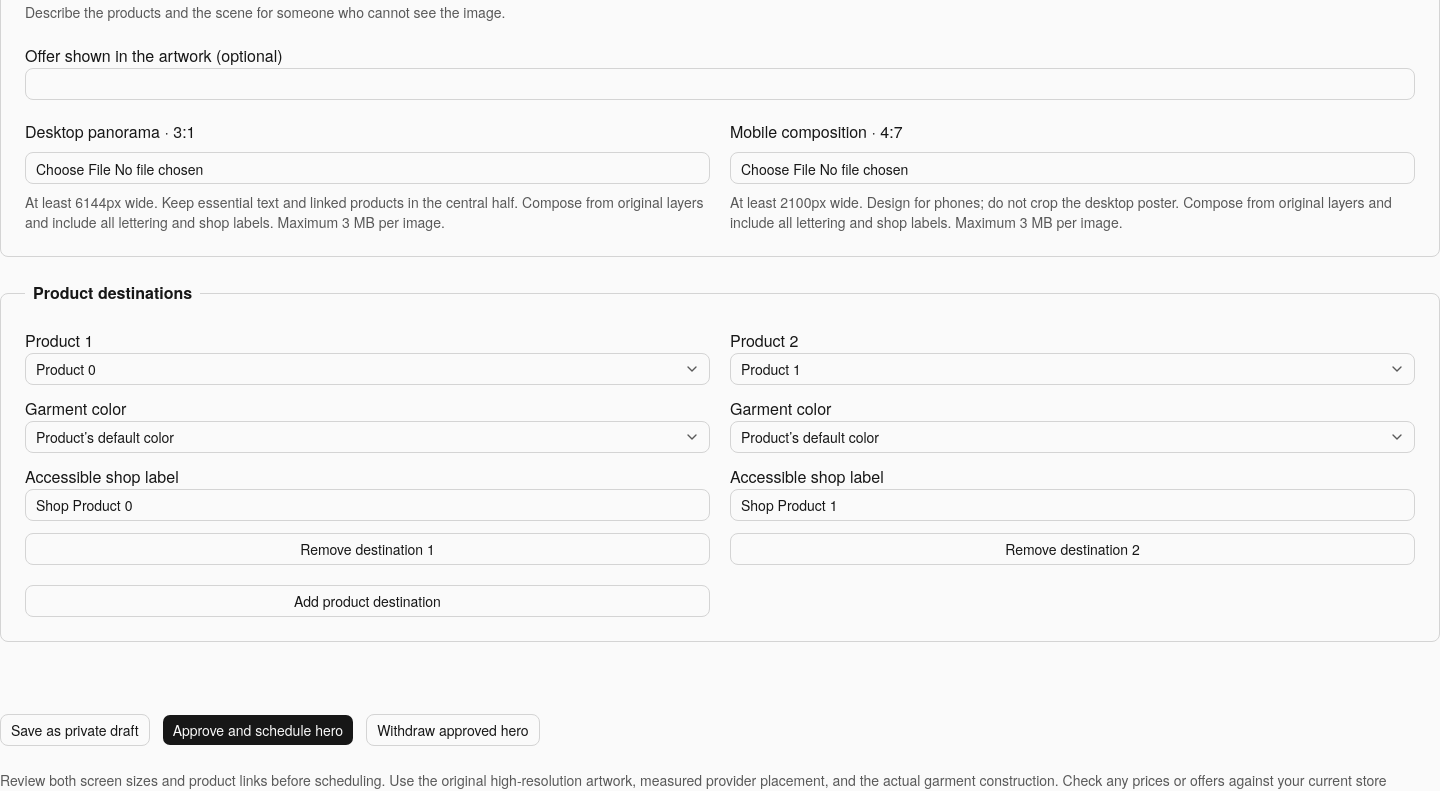
withdraws an unreadable hero using its actual revision without publishing anything
(page scrolled)
Click the button "Withdraw approved hero".
click(453, 730)  # box x1=366 y1=714 x2=540 y2=746
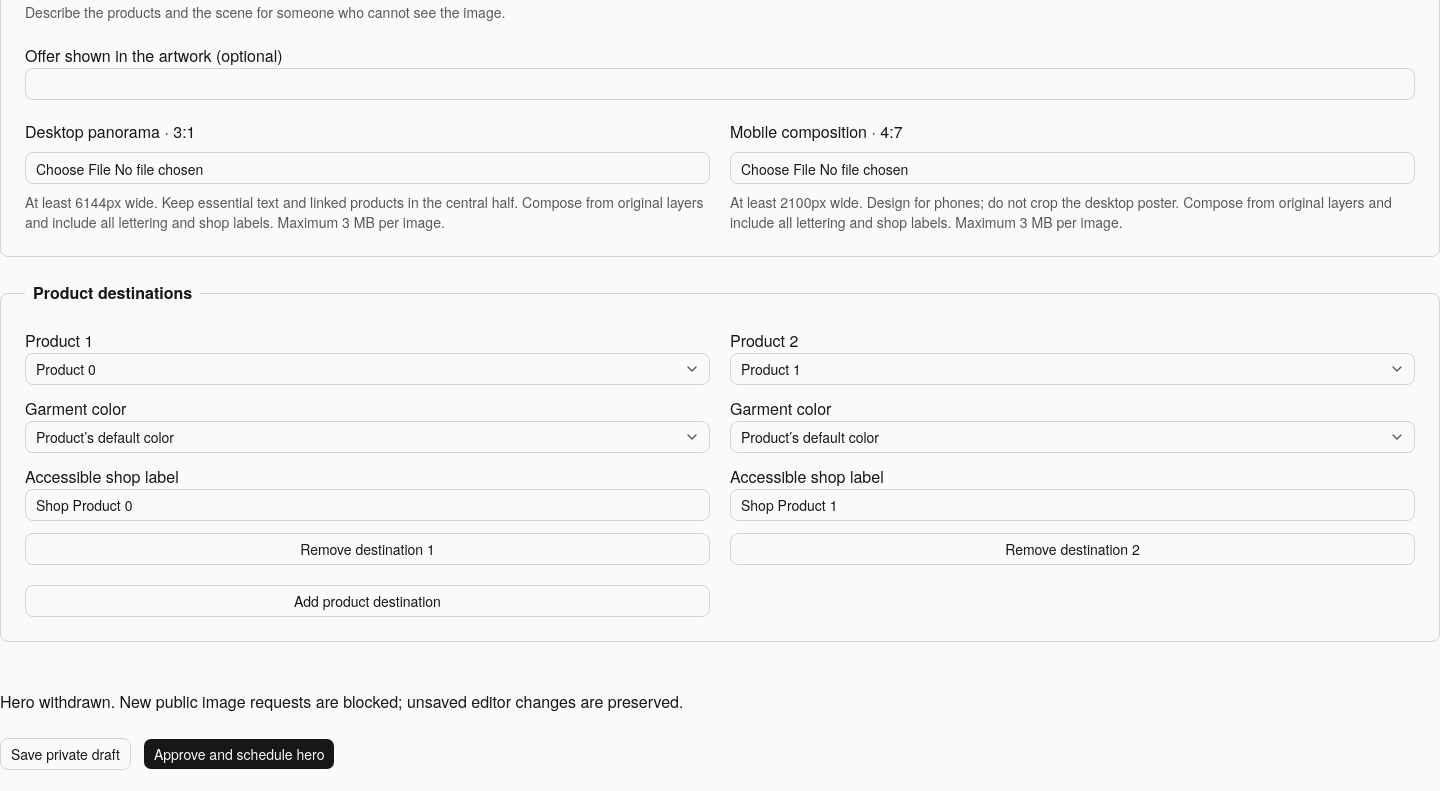
Expected: the message shows "withdrawn", x1=0 y1=690 x2=684 y2=713
Expected: the button "Withdraw approved hero" is gone
